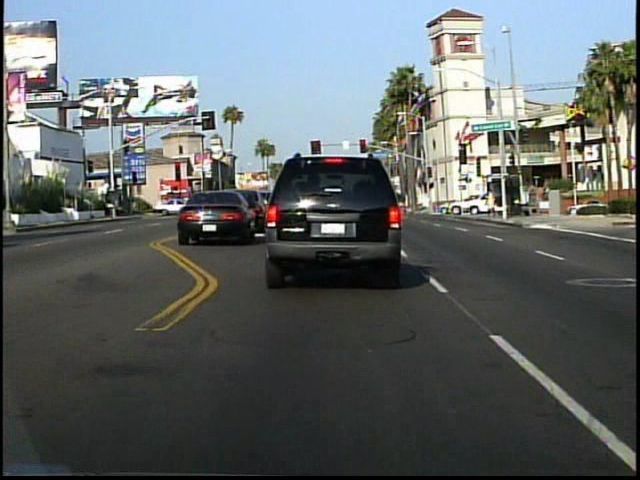person: (484, 186, 498, 219)
